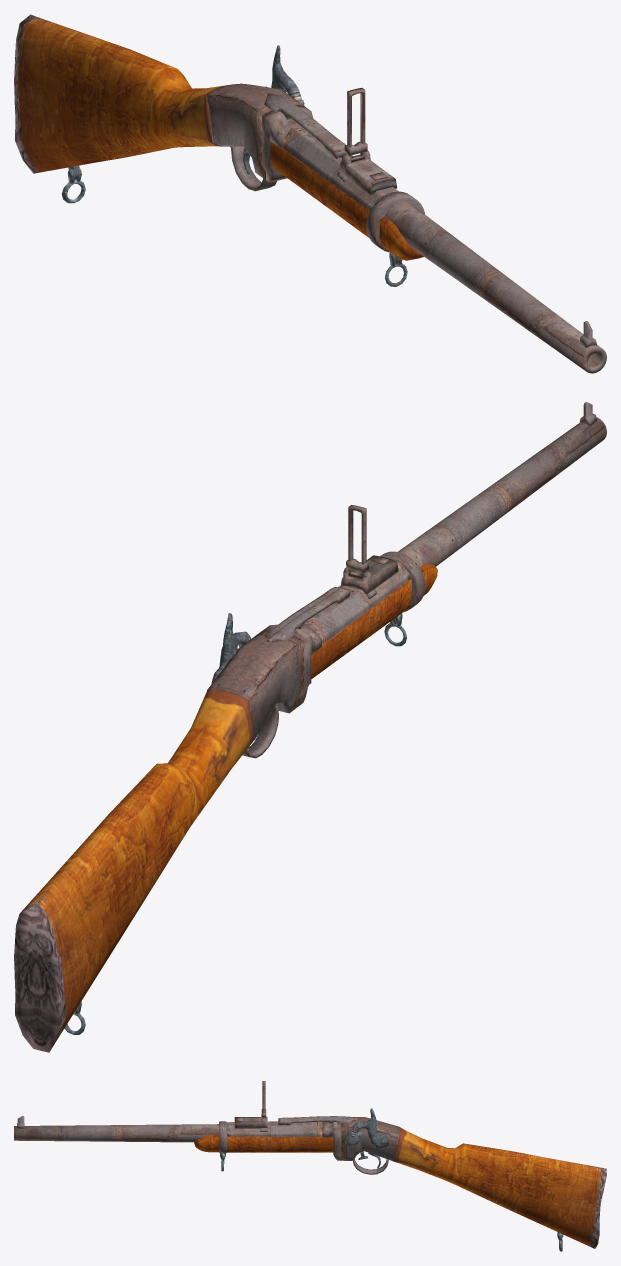
Rendered from SM_SmithCarbine_00.fbx.
The picture shows the model from 3 angles, top to bottom: view 1: azimuth 30°, elevation 25°; view 2: azimuth 150°, elevation 25°; view 3: azimuth 270°, elevation 25°; orthographic projection. The views are drawn at different scales.
Parts seen in each view (by area): view 1: SM_SmithCarbine_00, Barrel.002, Flint.002; view 2: SM_SmithCarbine_00, Barrel.002; view 3: SM_SmithCarbine_00, Barrel.002, Flint.002.
Boxes of the visible parts, <box> form: SM_SmithCarbine_00: <box>14,14,304,203</box>; Barrel.002: <box>262,88,606,373</box>; Flint.002: <box>265,45,304,104</box>; SM_SmithCarbine_00: <box>14,630,303,1052</box>; Barrel.002: <box>263,402,606,704</box>; SM_SmithCarbine_00: <box>341,1117,606,1251</box>; Barrel.002: <box>14,1081,356,1171</box>; Flint.002: <box>350,1108,389,1149</box>.
Size of the model in its own units: 9.18 by 47.62 by 152.
